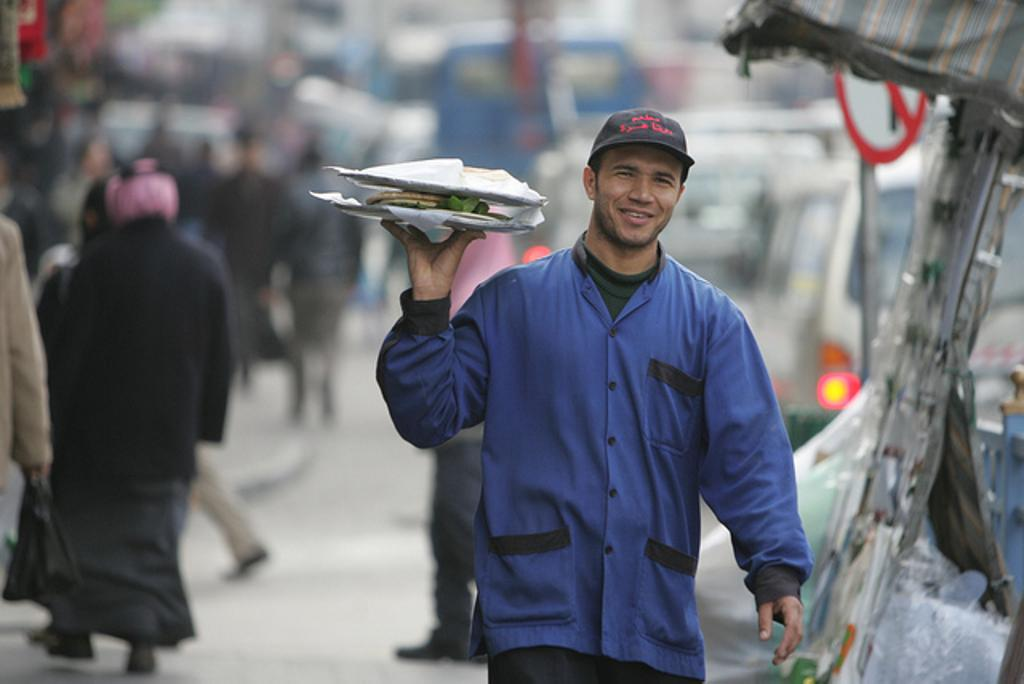face: (596, 134, 674, 240)
